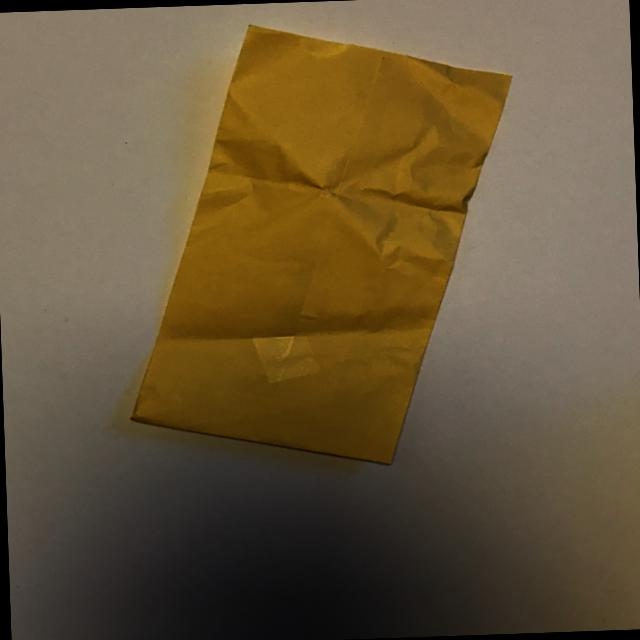Paper: (110, 16, 524, 472)
